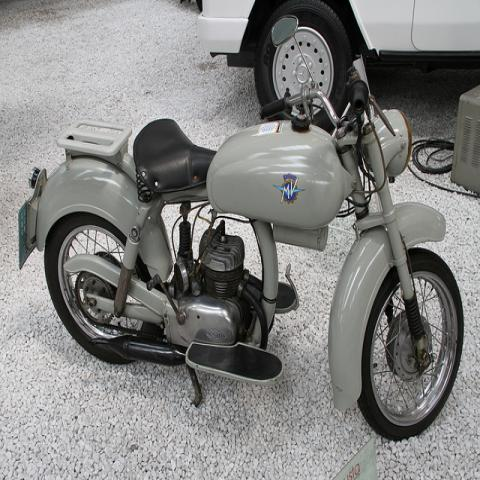car: (197, 0, 480, 116)
motorcycle: (15, 15, 466, 446)
